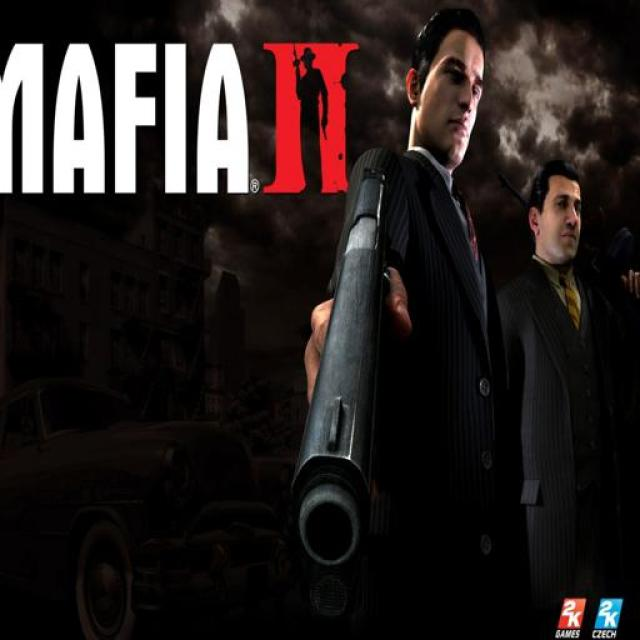pistol: (280, 149, 407, 605)
